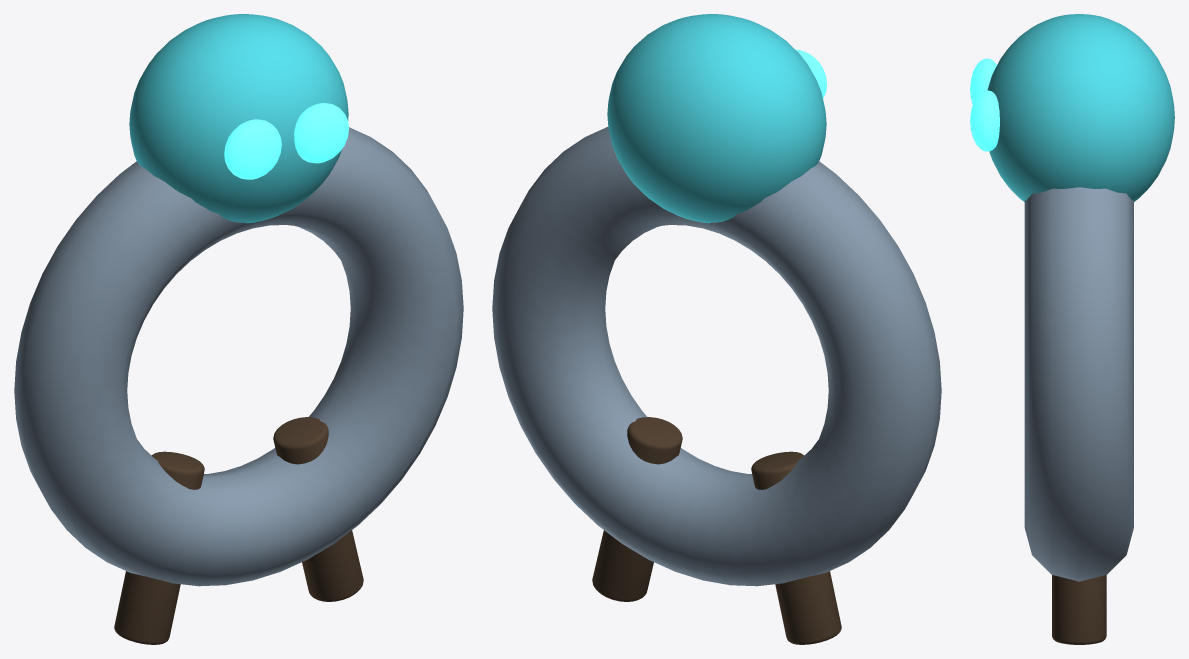
Rendered from construct_v4.glb.
3 views of the same model, side by side, from view 1: azimuth 30°, elevation 25°; view 2: azimuth 150°, elevation 25°; view 3: azimuth 270°, elevation 25° (orthographic). The views are drawn at different scales.
Visible parts, largest first — view 1: COGBOT_BODY_PRIMARY, COGBOT_HEAD_ACCENT, COGBOT_LEG_SECONDARY.001, COGBOT_LEG_SECONDARY, EYE_EMISSIVE, EYE_EMISSIVE.001; view 2: COGBOT_BODY_PRIMARY, COGBOT_HEAD_ACCENT, COGBOT_LEG_SECONDARY.001, COGBOT_LEG_SECONDARY; view 3: COGBOT_BODY_PRIMARY, COGBOT_HEAD_ACCENT, COGBOT_LEG_SECONDARY.001, EYE_EMISSIVE.001, EYE_EMISSIVE.
Boxes of the visible parts, bbox=[...] form: COGBOT_BODY_PRIMARY: bbox=[14, 127, 463, 586]; COGBOT_HEAD_ACCENT: bbox=[129, 14, 348, 223]; COGBOT_LEG_SECONDARY.001: bbox=[273, 417, 363, 601]; COGBOT_LEG_SECONDARY: bbox=[114, 451, 204, 644]; EYE_EMISSIVE: bbox=[224, 119, 281, 179]; EYE_EMISSIVE.001: bbox=[294, 103, 348, 163]; COGBOT_BODY_PRIMARY: bbox=[492, 127, 941, 586]; COGBOT_HEAD_ACCENT: bbox=[607, 14, 826, 223]; COGBOT_LEG_SECONDARY.001: bbox=[592, 417, 682, 601]; COGBOT_LEG_SECONDARY: bbox=[751, 451, 841, 644]; COGBOT_BODY_PRIMARY: bbox=[1024, 187, 1133, 581]; COGBOT_HEAD_ACCENT: bbox=[987, 14, 1174, 201]; COGBOT_LEG_SECONDARY.001: bbox=[1052, 575, 1106, 644]; EYE_EMISSIVE.001: bbox=[970, 90, 999, 151]; EYE_EMISSIVE: bbox=[970, 58, 996, 104].
Size of the model in its own units: 1.42 by 1.86 by 0.6.
